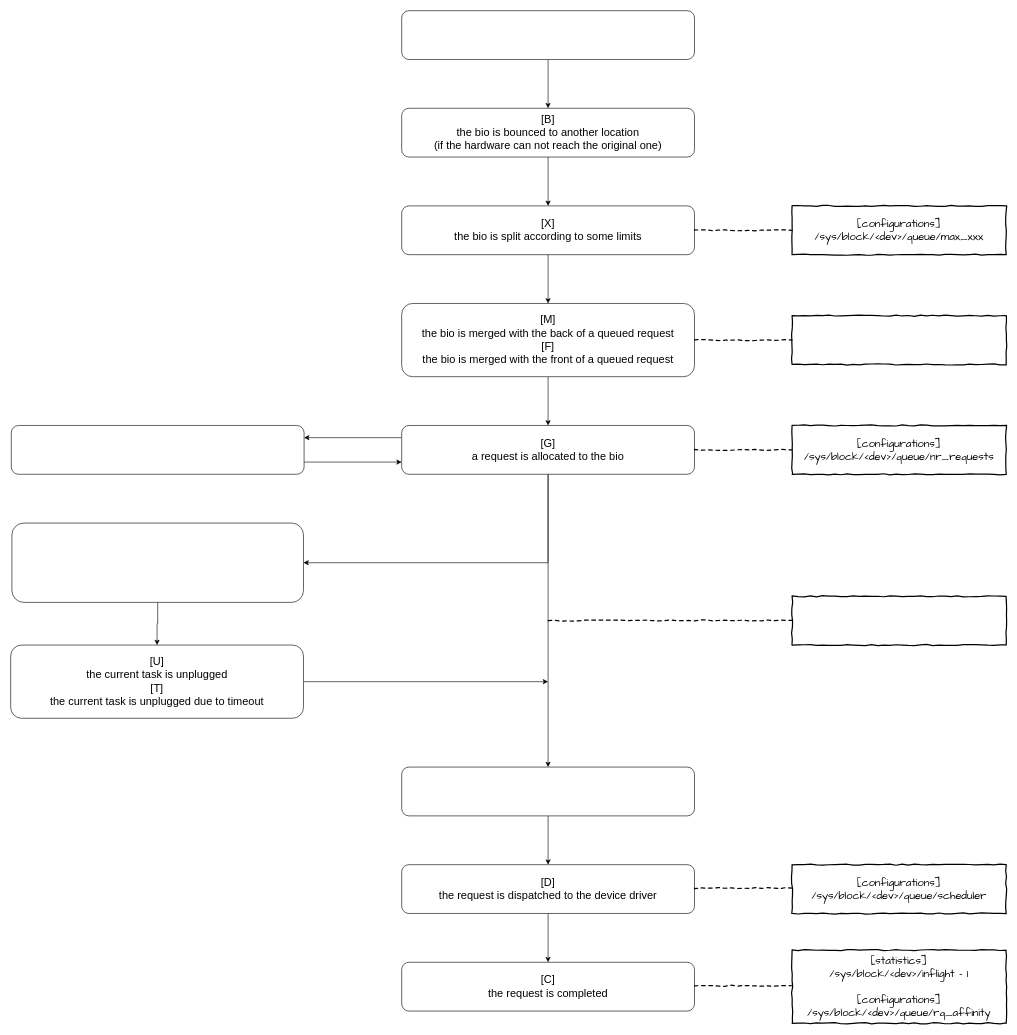
This 1017x1035 diagram has some shape labels left out. The centre of each missing label's shape, as x and y in pixels:
"[configurations] /sys/block/<dev>/queue/nomerges" goes at [898,340].
"[I] the request is inserted to the elevator" goes at [547,791].
"[P] the current task is plugged the request is put to the plug list" goes at [157,562].
"[Q] a bio is submitted to the request queue code" goes at [547,34].
"[S] failed to get a request, go to sleep and retry later" goes at [157,449].
"[statistics] /sys/block/<dev>/inflight + 1" goes at [898,620].
